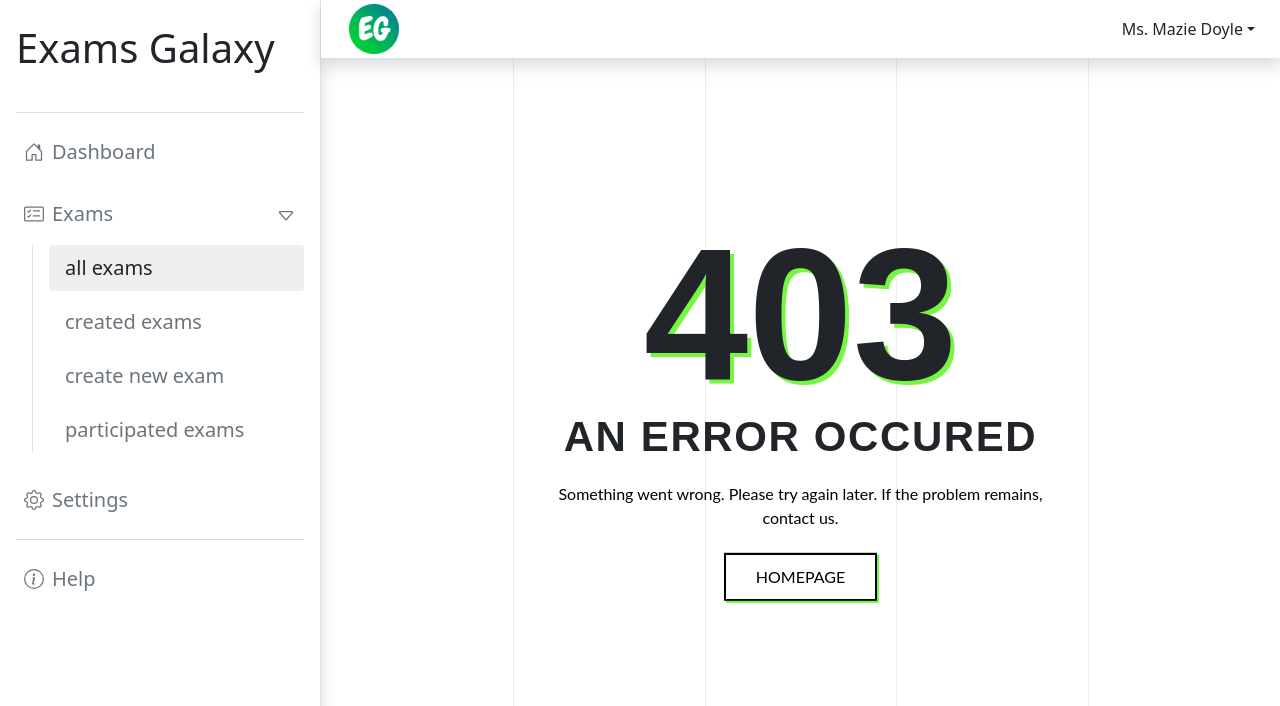
it: when user occured to an error and then changed his page, the error must be gone
Check: the heading "403" is shown, box [644,209,957,419]
Click the link "Dashboard". click: (90, 152)
box: [24,138,156,165]
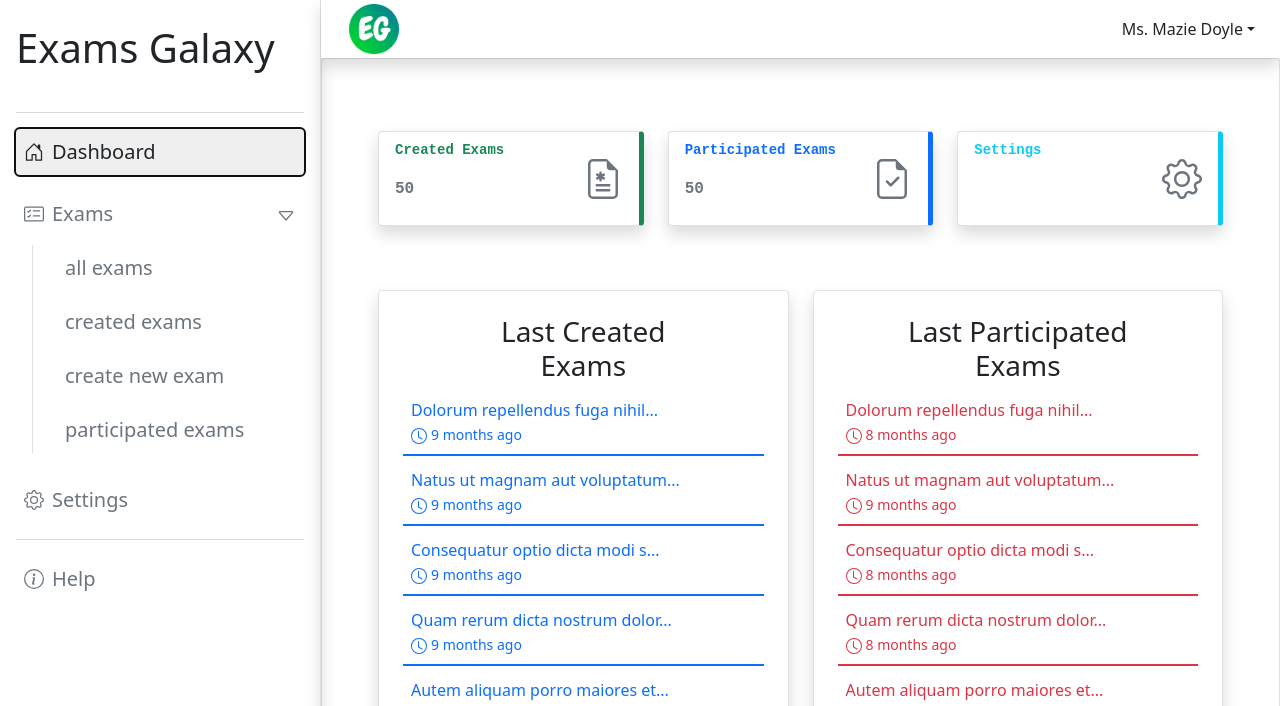
Check: the heading "403" is gone
